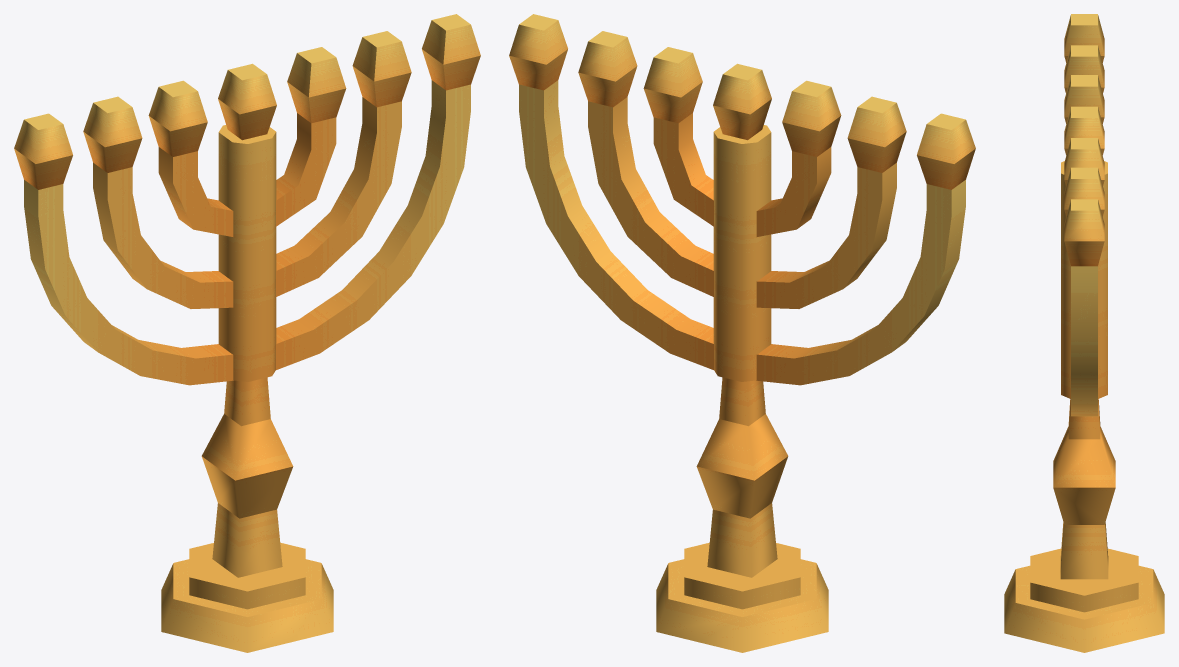
Rendered from hanukkah-menorah.glb.
The picture shows the model from 3 angles, left to right: view 1: azimuth 30°, elevation 25°; view 2: azimuth 150°, elevation 25°; view 3: azimuth 270°, elevation 25°; orthographic projection. The views are drawn at different scales.
Parts seen in each view (by area): view 1: hanukkah-menorah; view 2: hanukkah-menorah; view 3: hanukkah-menorah.
Part boxes in pixels (box(x1,y1,x2,y2)): hanukkah-menorah: box(14, 14, 480, 652); hanukkah-menorah: box(509, 14, 975, 652); hanukkah-menorah: box(1004, 14, 1164, 652).
Bounding box in the file's own units: 1.69 × 1.96 × 0.567.
1 material, 1 textured.
